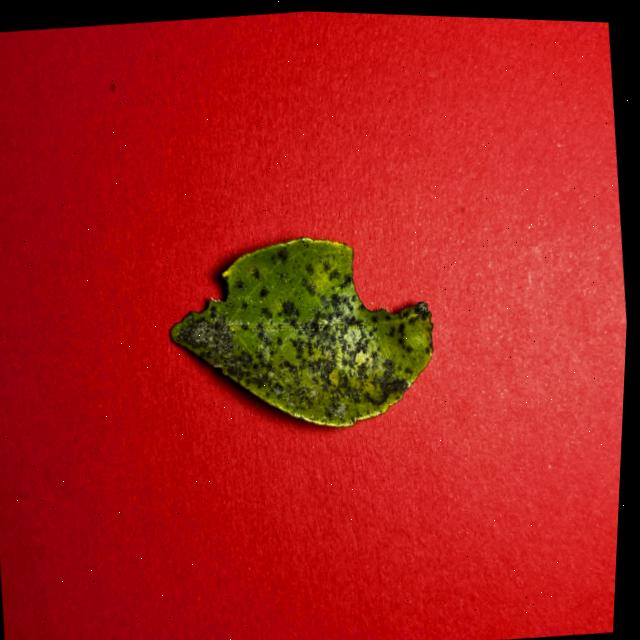sooty_mold: (170, 238, 432, 427)
